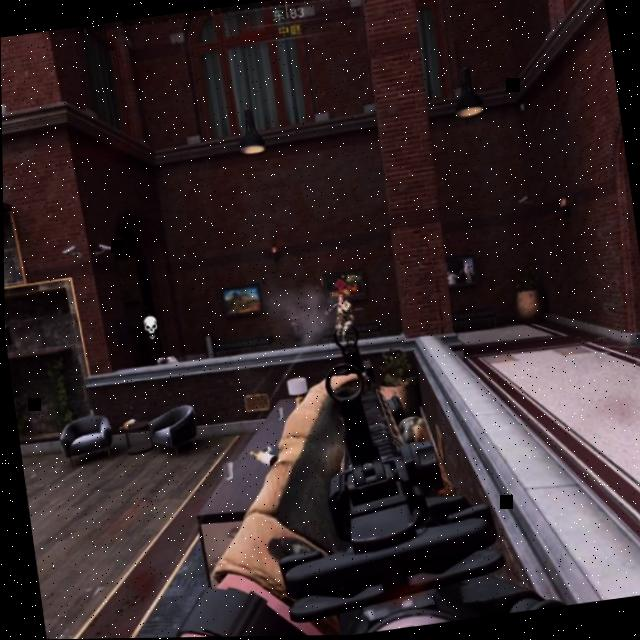MW2_body: (327, 279, 357, 344)
